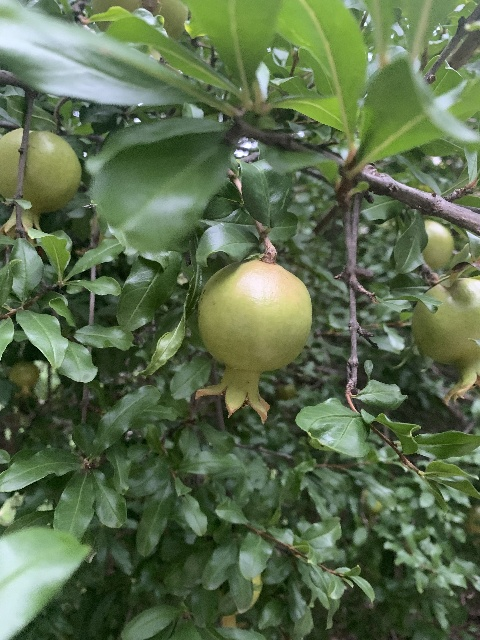mid-growth: (193, 259, 312, 425), (0, 127, 81, 240), (411, 277, 480, 405), (421, 219, 453, 268), (7, 362, 39, 399)
